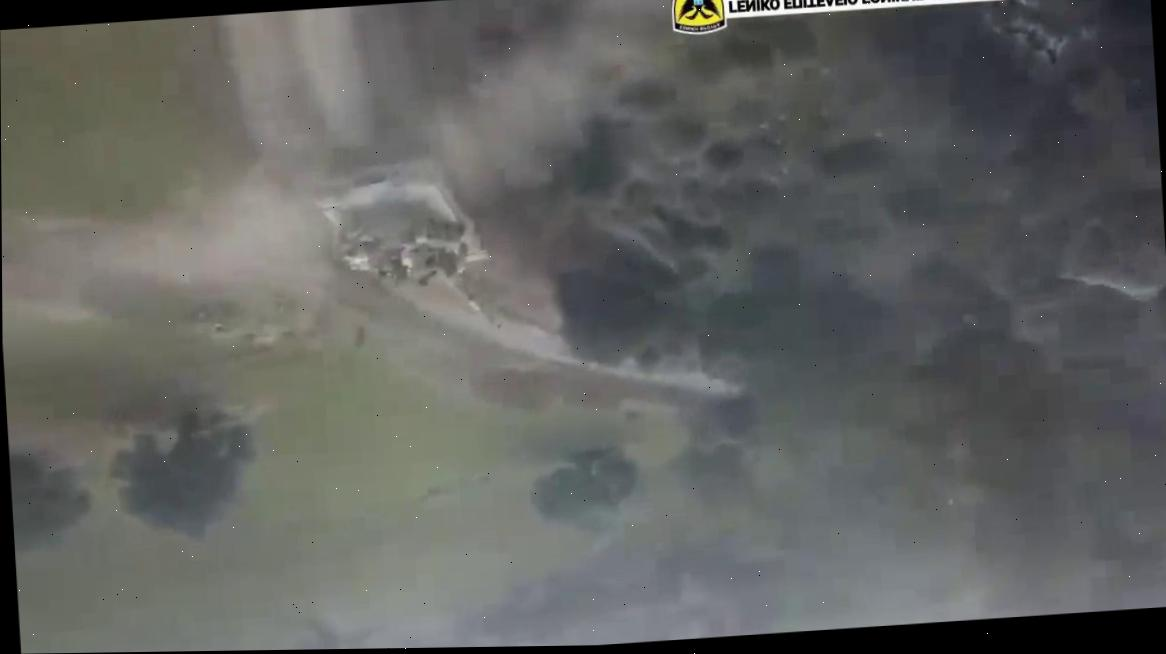tank: (309, 143, 504, 341)
